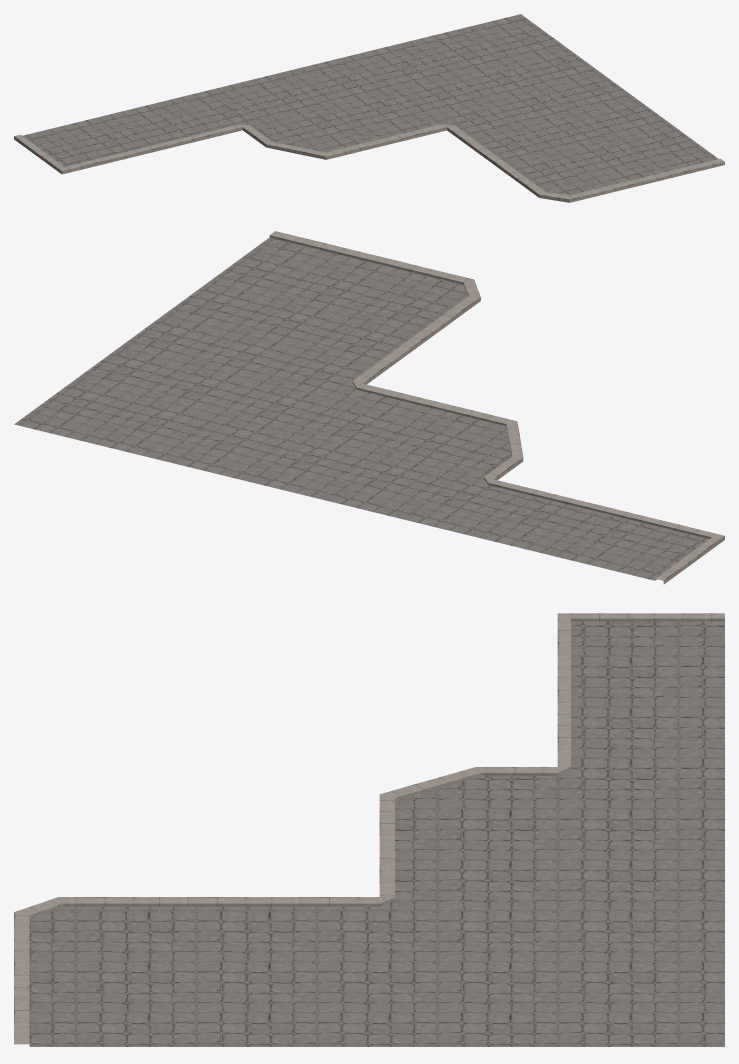
File: TownGroundTile_Q.fbx
3 views of the same model, one above another, from view 1: azimuth 30°, elevation 25°; view 2: azimuth 150°, elevation 25°; view 3: azimuth 270°, elevation 25° (orthographic). The views are drawn at different scales.
Parts seen in each view (by area): view 1: TownGroundTile_Q; view 2: TownGroundTile_Q; view 3: TownGroundTile_Q.
Part boxes in pixels (x1,y1,x2,y2): TownGroundTile_Q: (14,14,724,202); TownGroundTile_Q: (14,231,724,584); TownGroundTile_Q: (14,613,724,1046).
Size of the model in its own units: 3641 by 21.92 by 2538.
2 materials, 2 textured.
